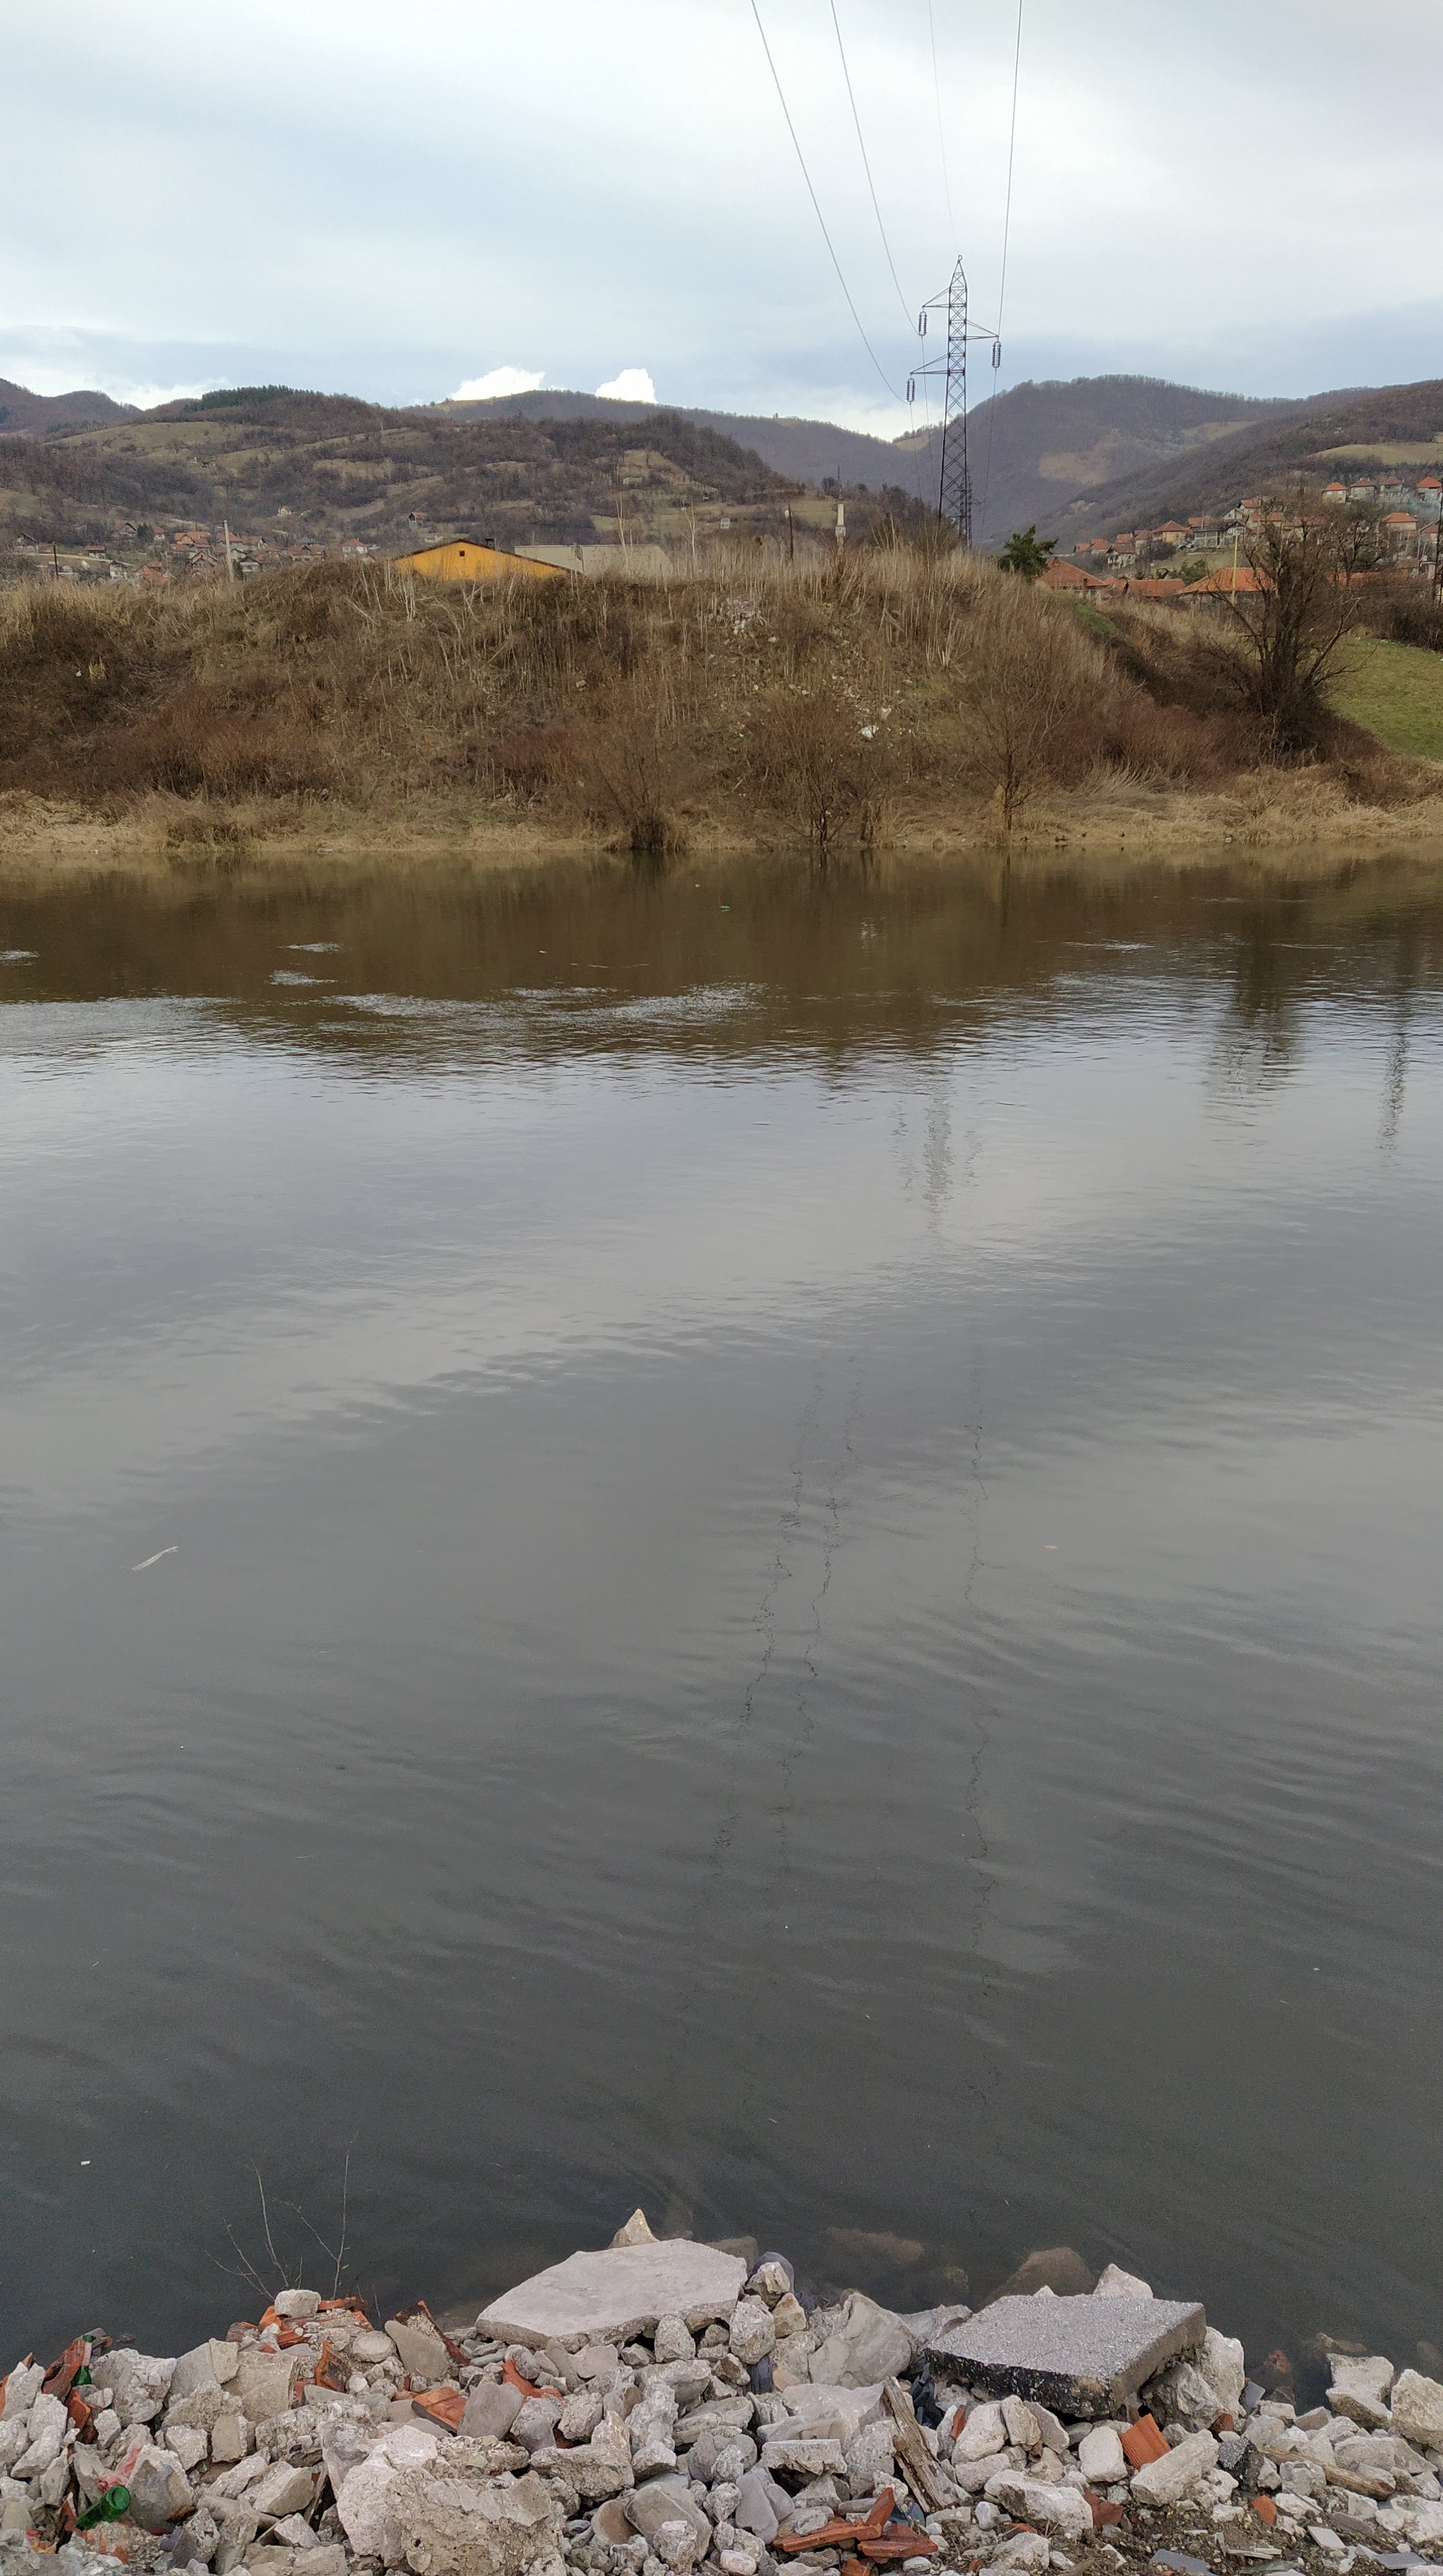Plastic Bottle: (719, 906, 729, 909), (1225, 837, 1231, 840)
